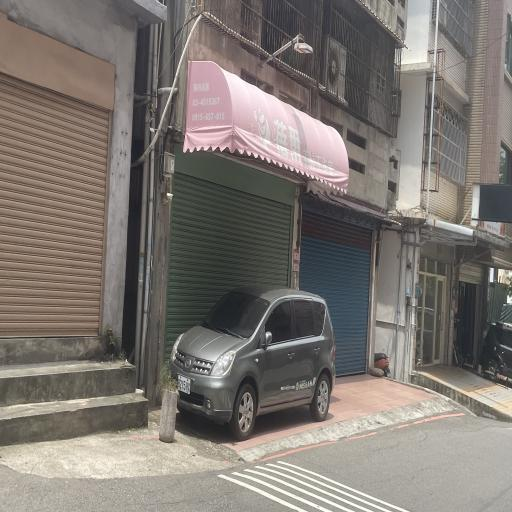car: (162, 278, 343, 435)
redline: (246, 404, 468, 466)
